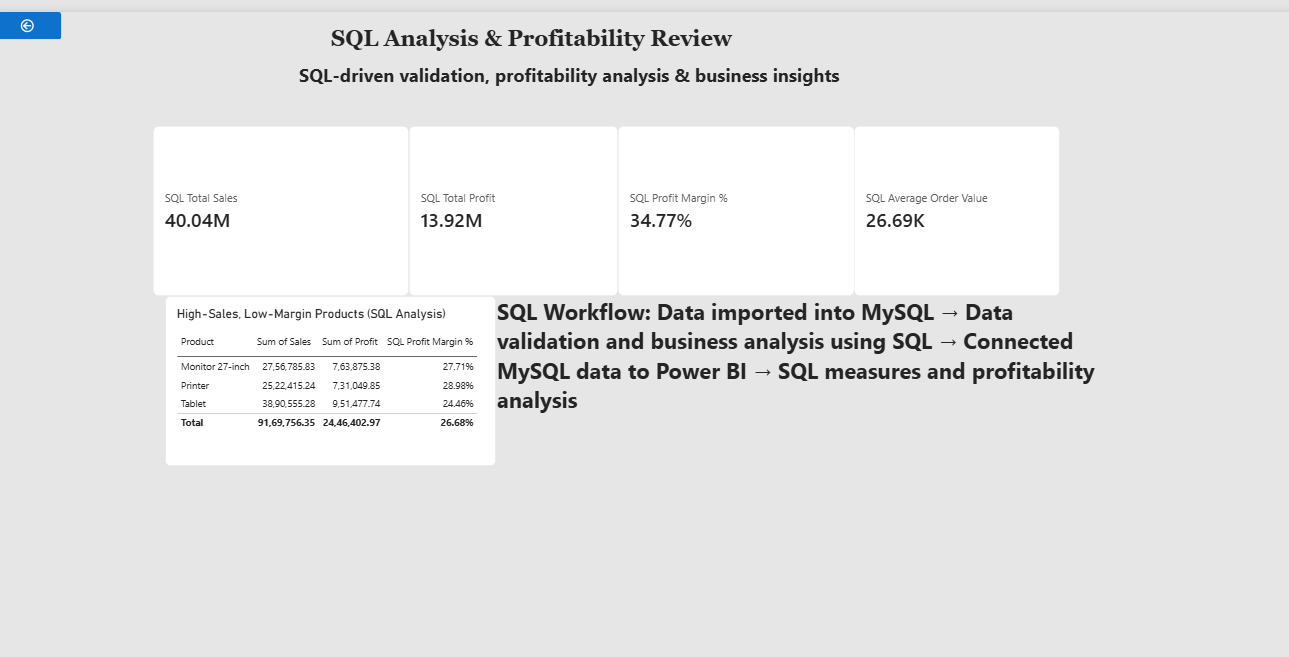

The dashboard page shown, as its layout file describes it:
{"tool":"powerbi","page":{"name":"SQL Analysis","canvas":[1920,1080],"ordinal":1},"visuals":[{"type":"tableEx","title":"High-Sales, Low-Margin Products (SQL Analysis)","fields":{"Values":["SQL_Sales_Data.Product","Sum(SQL_Sales_Data.Sales)","Sum(SQL_Sales_Data.Profit)","SQL_Sales_Data.SQL Profit Margin %"]},"box":[251.7,415,483.3,248.3],"z":0},{"type":"actionButton","box":[0,0,100,40],"z":1},{"type":"cardVisual","fields":{"Data":["DateTable.SQL Total Sales"]},"box":[233.3,166.7,373.3,248.3],"z":2},{"type":"cardVisual","fields":{"Data":["SQL_Sales_Data.SQL Total Profit"]},"box":[606.7,166.7,305,248.3],"z":3},{"type":"cardVisual","fields":{"Data":["SQL_Sales_Data.SQL Profit Margin %"]},"box":[911.7,166.7,345,248.3],"z":4},{"type":"textbox","box":[493.3,20,593.3,53.3],"z":5},{"type":"textbox","box":[446.7,73.3,810,43.3],"z":6},{"type":"cardVisual","fields":{"Data":["SQL_Sales_Data.SQL Average Order Value"]},"box":[1256.7,166.7,300,248.3],"z":7},{"type":"textbox","box":[735,415,888.3,230],"z":8}]}

Visuals, with their boxes on the page's 1920x1080 design canvas (x1, y1, x2, y2). These are canvas units, not pixel positions in the 1289x657 screenshot, which may show the page scaled, cropped or inside an application window:
"High-Sales, Low-Margin Products (SQL Analysis)" tableEx: box=[252, 415, 735, 663]
actionButton: box=[0, 0, 100, 40]
cardVisual - DateTable.SQL Total Sales: box=[233, 167, 607, 415]
cardVisual - SQL_Sales_Data.SQL Total Profit: box=[607, 167, 912, 415]
cardVisual - SQL_Sales_Data.SQL Profit Margin %: box=[912, 167, 1257, 415]
textbox: box=[493, 20, 1087, 73]
textbox: box=[447, 73, 1257, 117]
cardVisual - SQL_Sales_Data.SQL Average Order Value: box=[1257, 167, 1557, 415]
textbox: box=[735, 415, 1623, 645]
